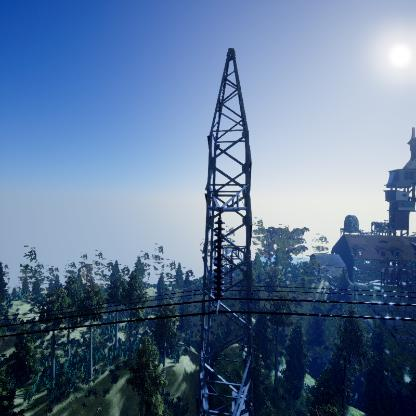insulator: (212, 217, 224, 301)
